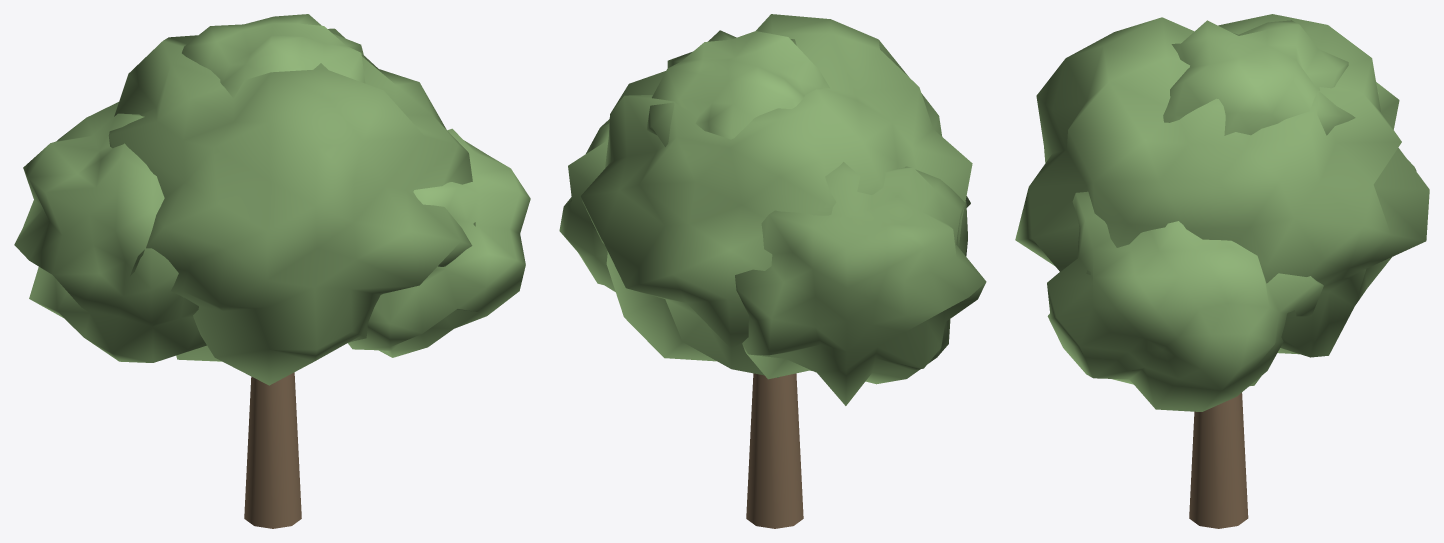
File: oak-tree.gltf
3 renders of one model, left to right at view 1: azimuth 30°, elevation 25°; view 2: azimuth 150°, elevation 25°; view 3: azimuth 270°, elevation 25°, orthographic. The views are drawn at different scales.
Parts seen in each view (by area): view 1: oak-tree; view 2: oak-tree; view 3: oak-tree.
Part boxes in pixels (x1,y1,x2,y2): oak-tree: (14, 14, 530, 528); oak-tree: (559, 14, 986, 528); oak-tree: (1015, 14, 1429, 528).
Size of the model in its own units: 5.09 by 5.42 by 4.14.
